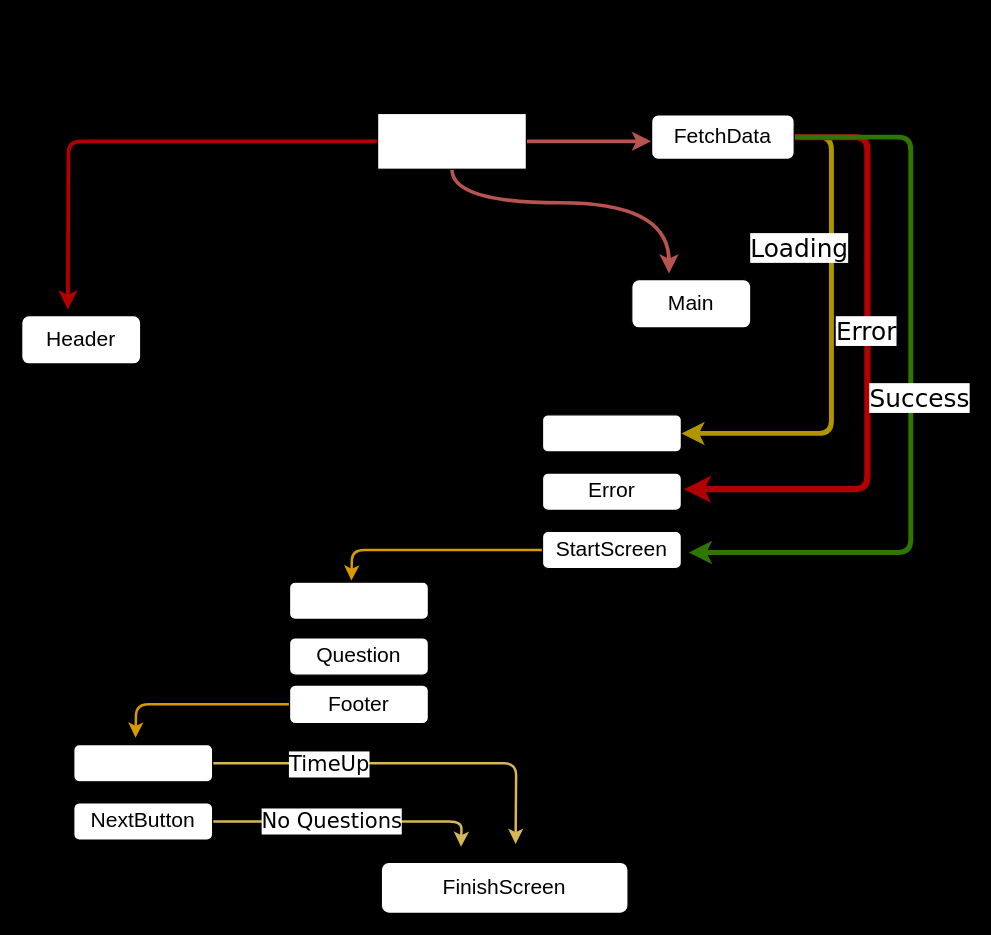
This 991x935 diagram has some shape labels left out. Each missing label, with the centre of its shape:
App .js: point 451,140
Loader: point 611,433
Progress: point 358,600
Timer: point 143,762
